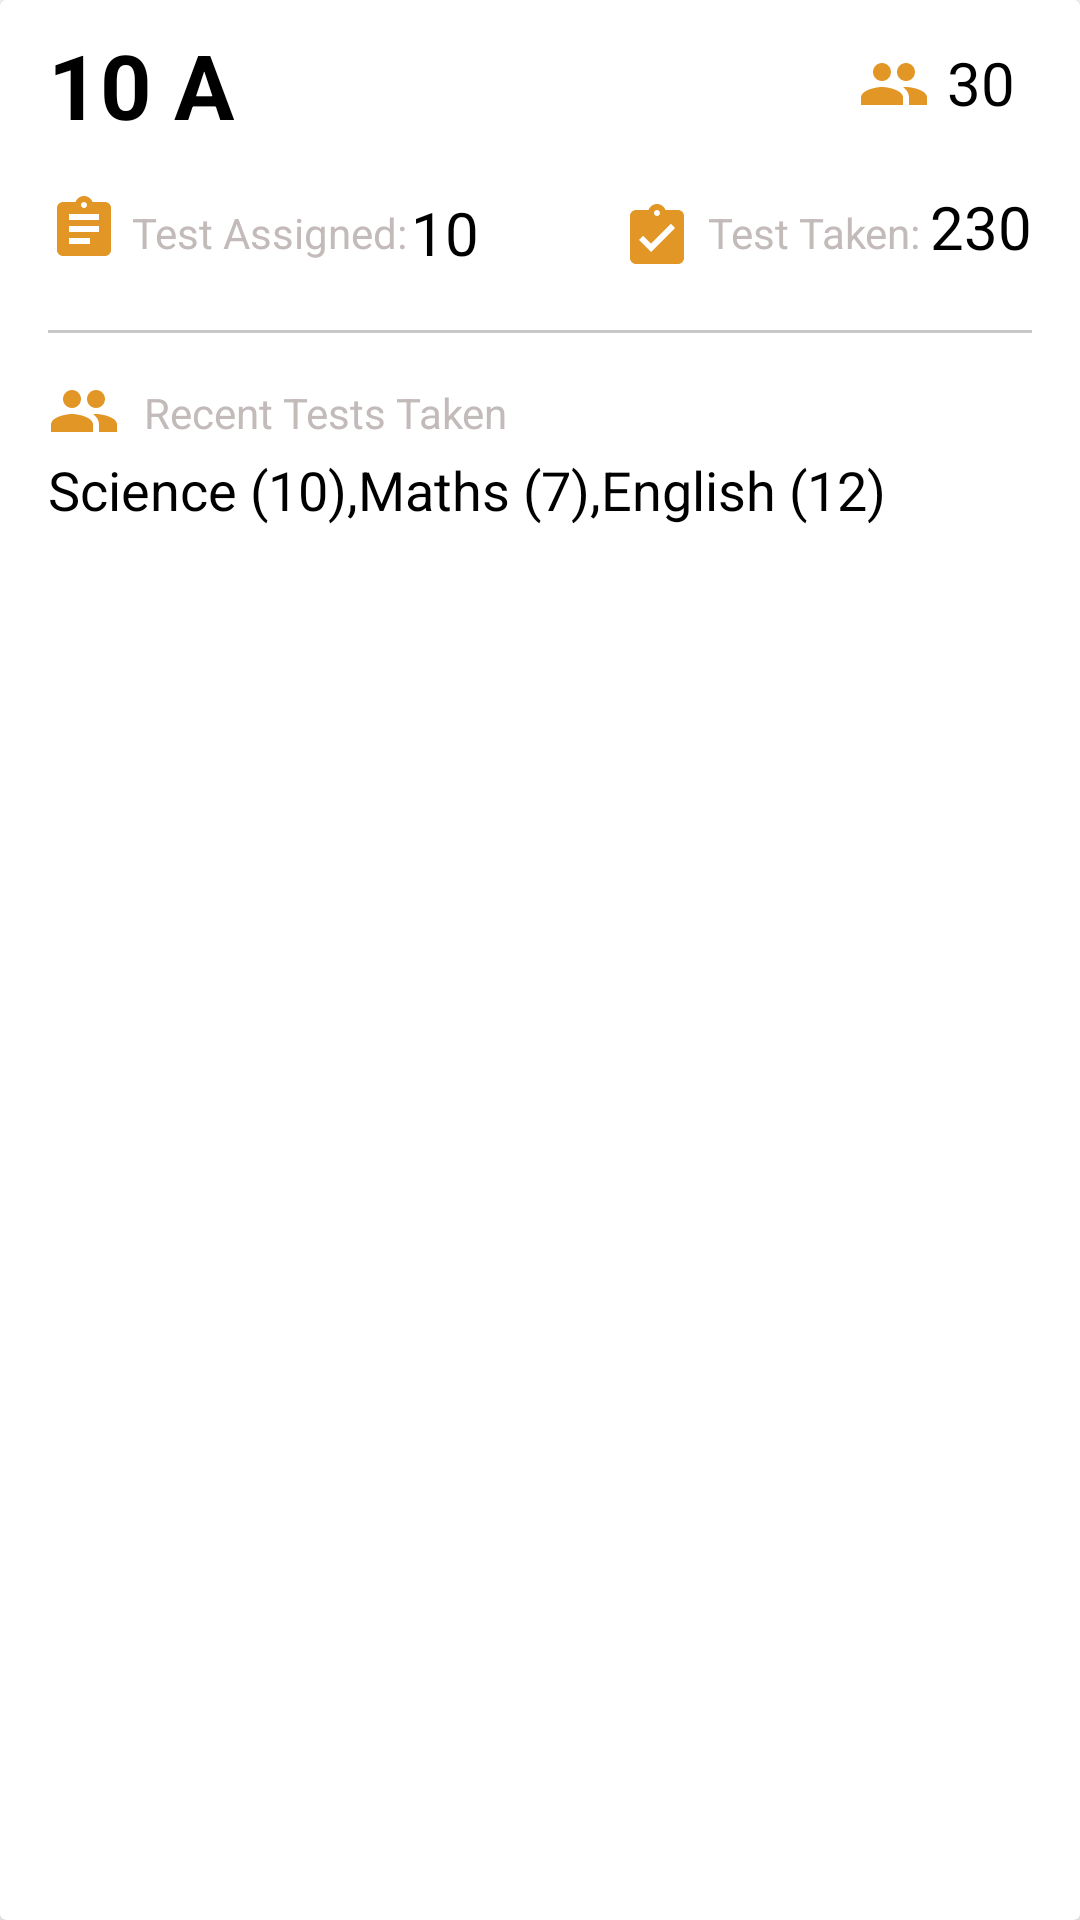

Where to tap for icons on this 1080px×1920px app screen, as [x,y]:
assignment: [84,226]
assignment turned in: [657,234]
